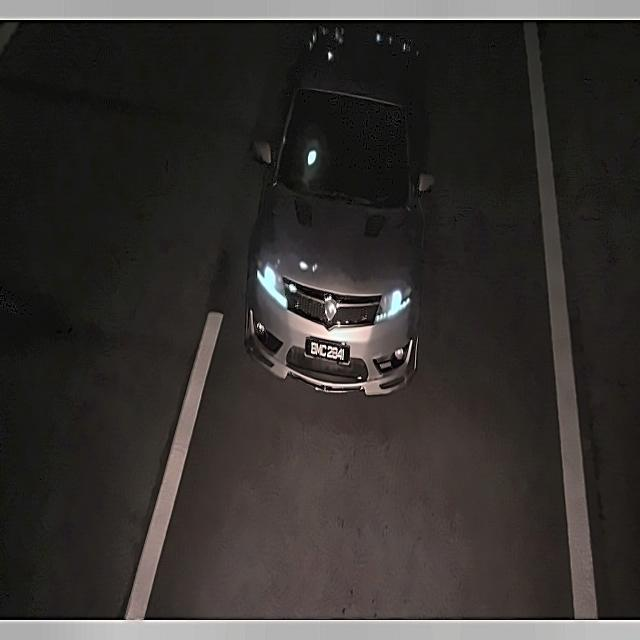car: (304, 332, 351, 369)
